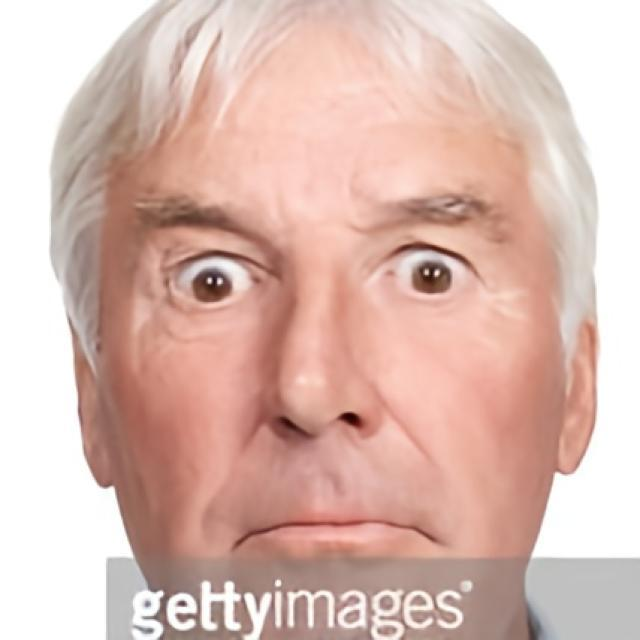fear: (100, 52, 561, 640)
